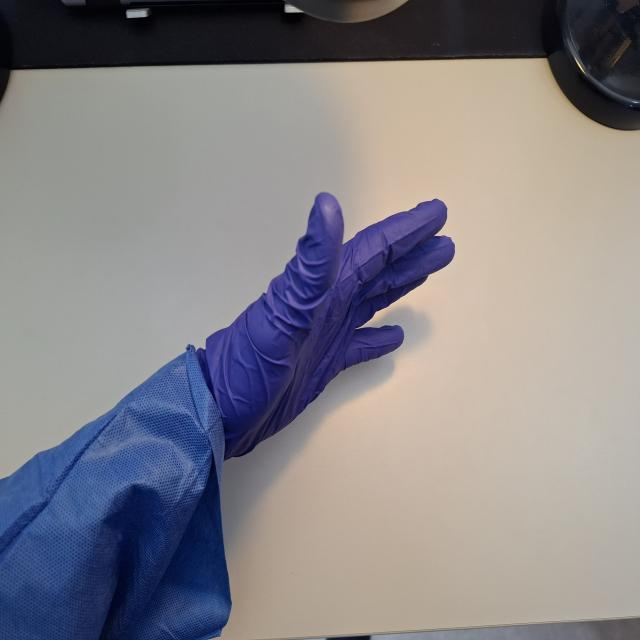glove_on: (191, 189, 458, 467)
